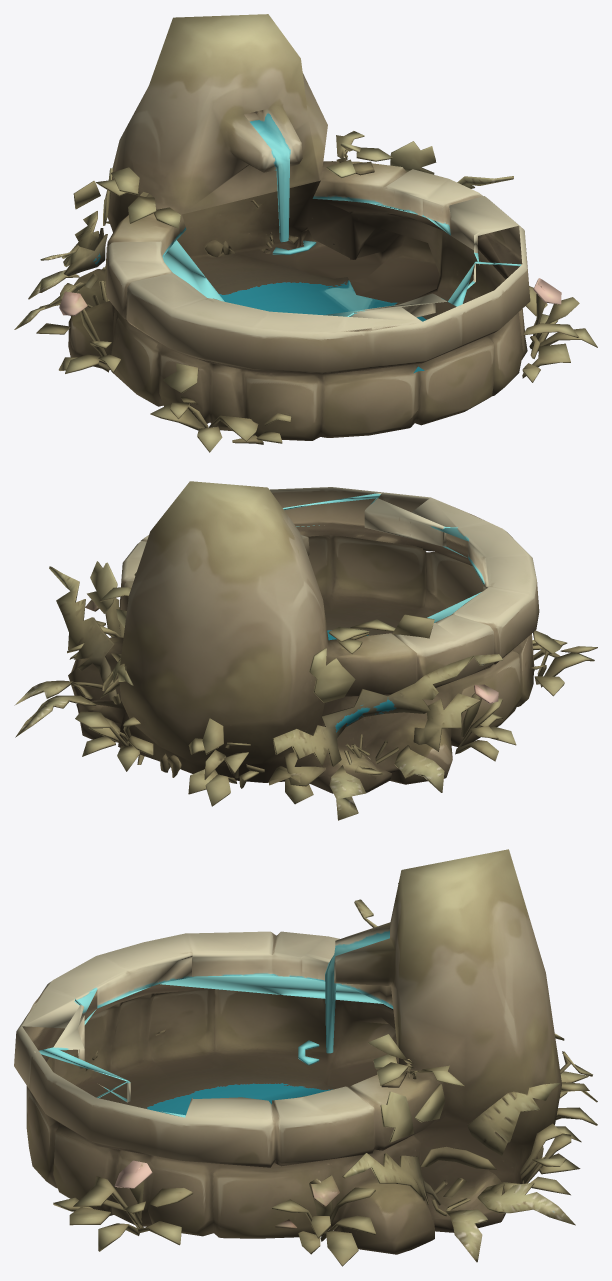
3 views of the same model, one above another, from view 1: azimuth 30°, elevation 25°; view 2: azimuth 150°, elevation 25°; view 3: azimuth 270°, elevation 25° (orthographic). The views are drawn at different scales.
Parts seen in each view (by area): view 1: spring-sand; view 2: spring-sand; view 3: spring-sand.
Boxes of the visible parts, <box> form: spring-sand: <box>14,14,597,452</box>; spring-sand: <box>14,481,597,820</box>; spring-sand: <box>14,849,597,1266</box>.
Size of the model in its own units: 0.998 by 0.5499 by 0.9883.
Materials: 1 (1 with a texture image).
